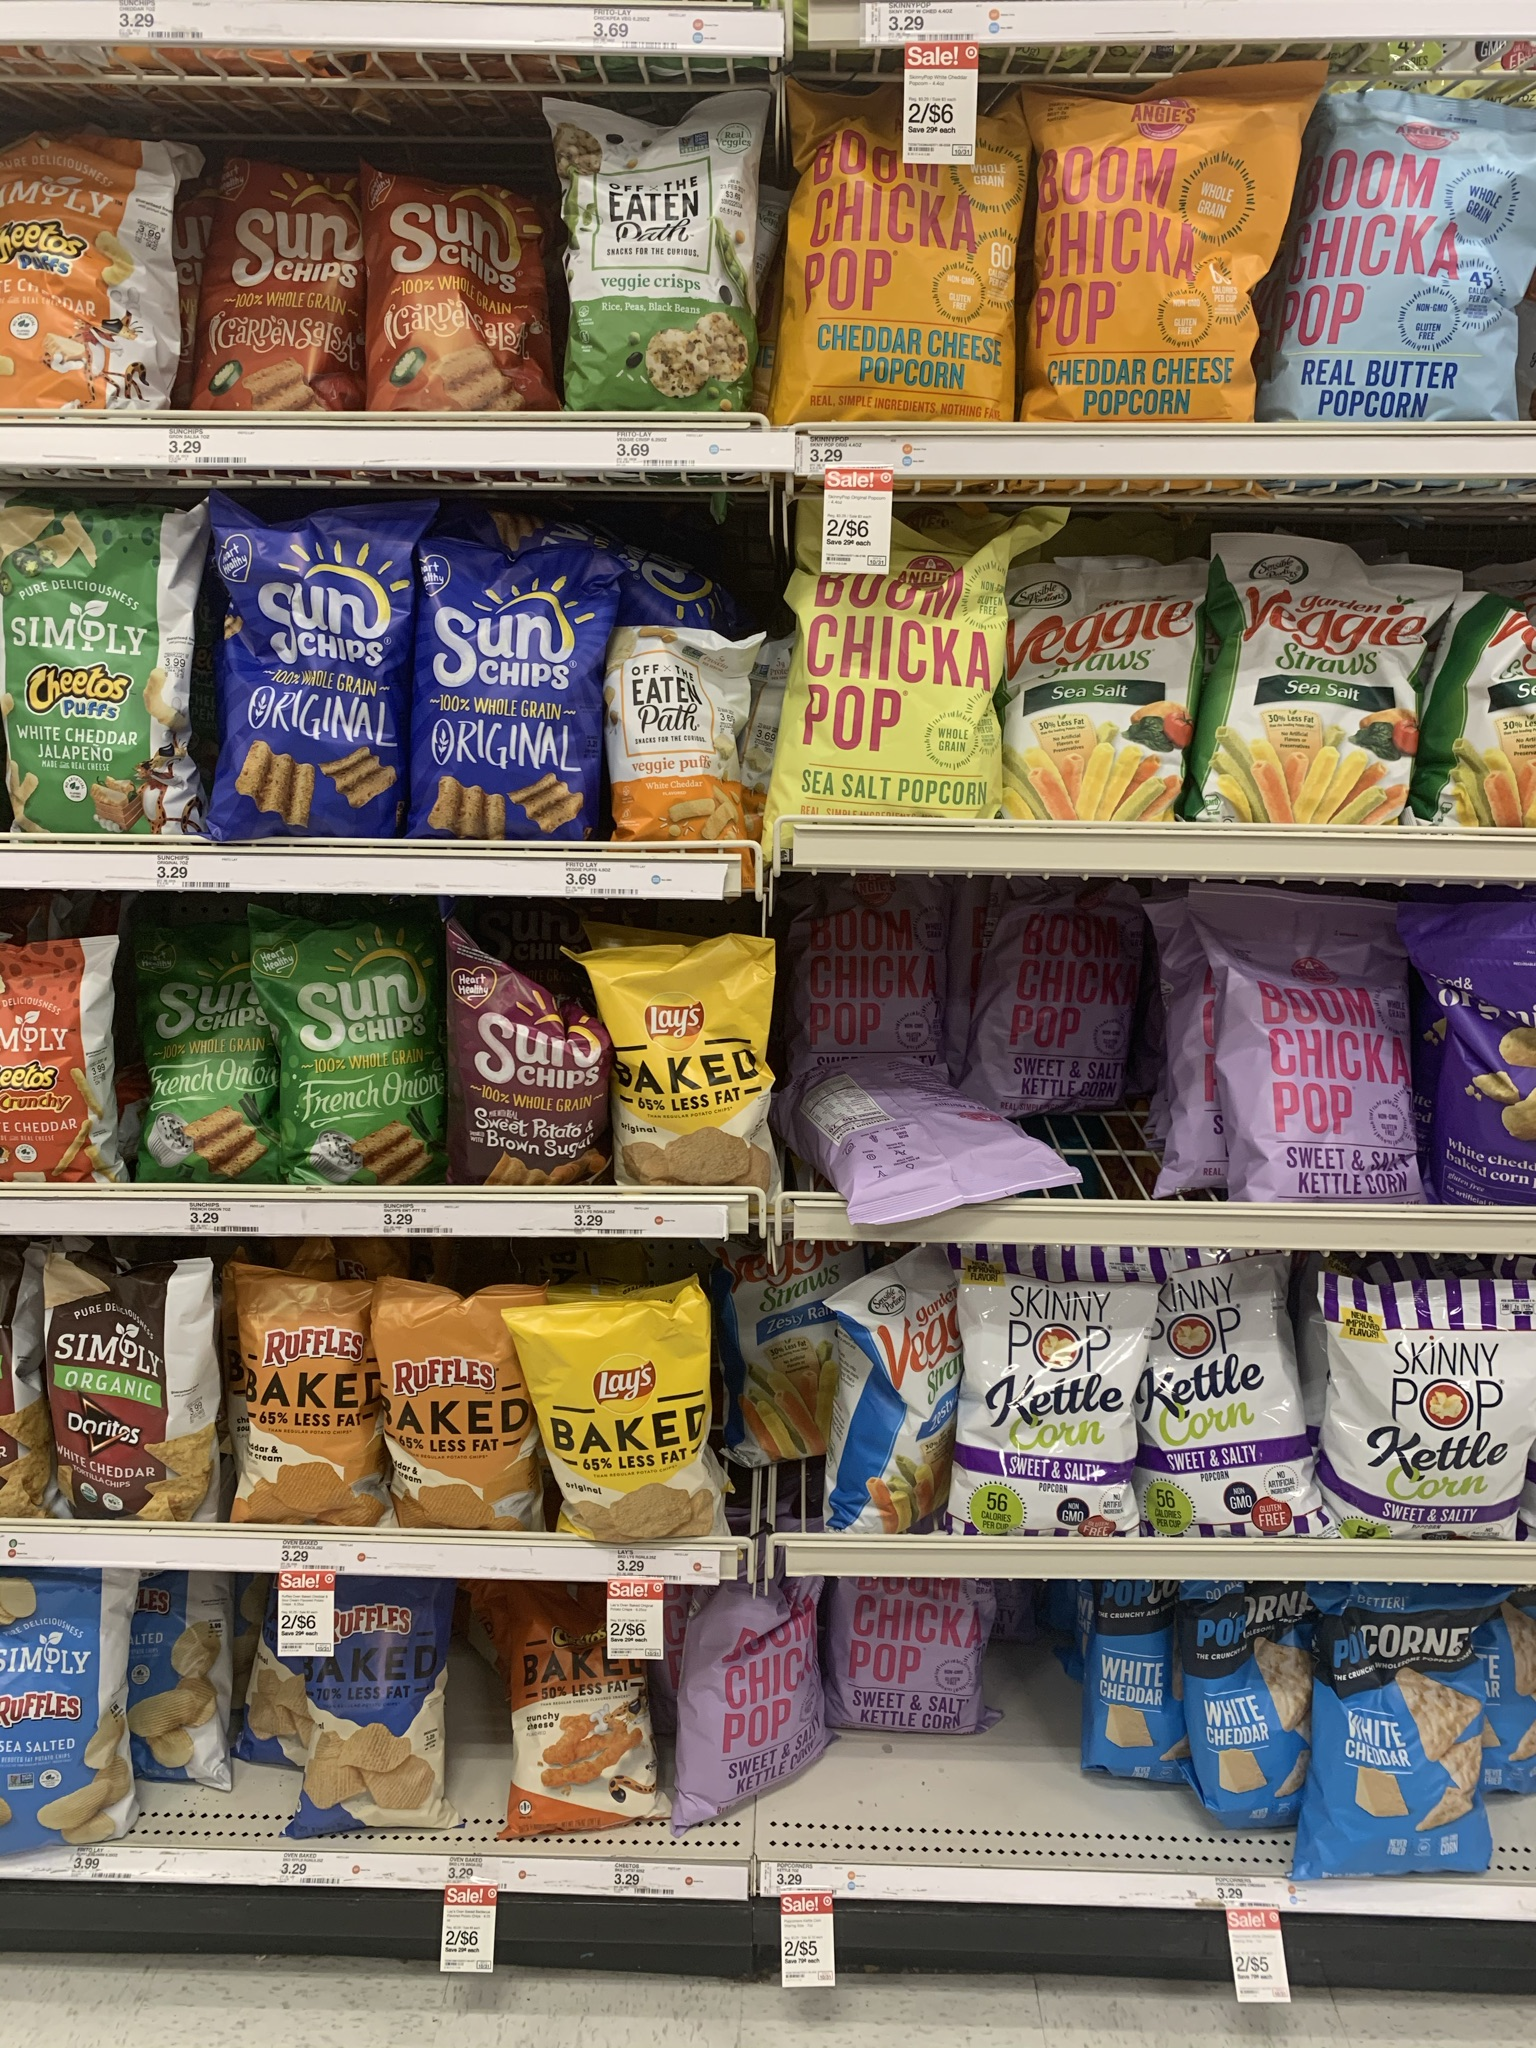chip: (541, 113, 760, 408), (211, 502, 397, 835), (6, 513, 194, 830), (252, 914, 439, 1197), (2, 144, 184, 418), (426, 548, 592, 848), (536, 1293, 715, 1564), (45, 1259, 227, 1519), (365, 1272, 532, 1553), (369, 174, 550, 410), (440, 930, 599, 1193), (290, 1587, 452, 1837), (192, 153, 344, 410), (231, 1268, 373, 1532), (140, 934, 274, 1192), (2, 1579, 131, 1846), (511, 1601, 652, 1825), (2, 935, 123, 1185), (1450, 976, 1536, 1206)
